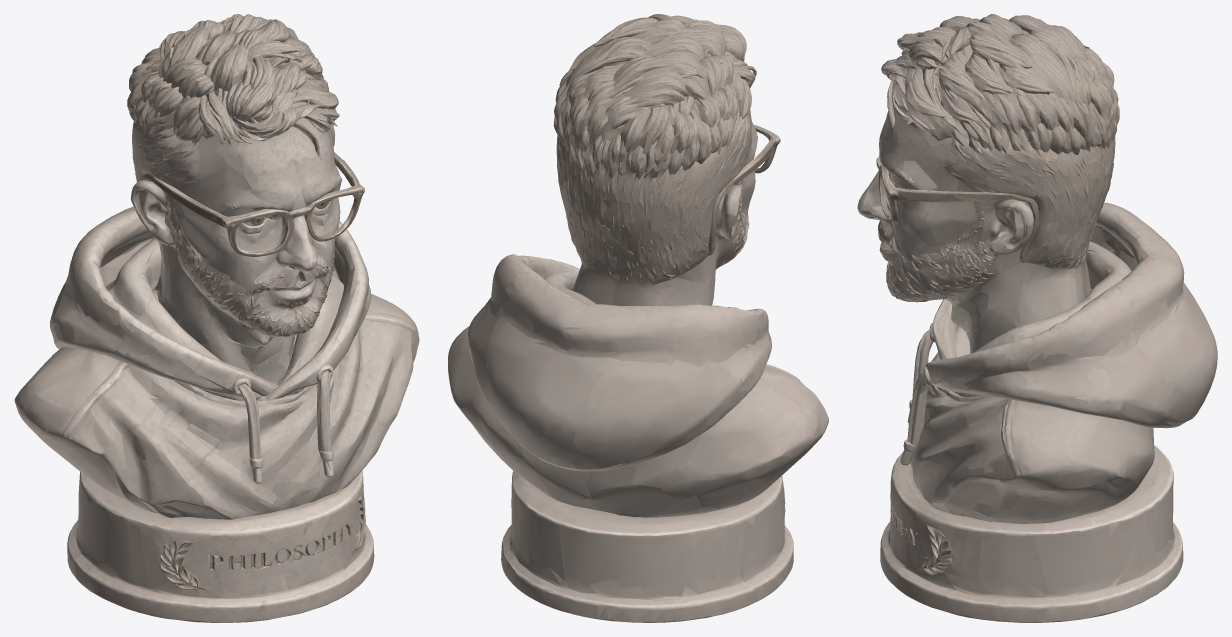
The model's file is statue-philosophy.glb.
The picture shows the model from 3 angles, left to right: view 1: azimuth 30°, elevation 25°; view 2: azimuth 150°, elevation 25°; view 3: azimuth 270°, elevation 25°; orthographic projection. The views are drawn at different scales.
Parts seen in each view (by area): view 1: Mesh_0; view 2: Mesh_0; view 3: Mesh_0.
Boxes of the visible parts, bbox=[...] form: Mesh_0: bbox=[14, 14, 419, 622]; Mesh_0: bbox=[448, 14, 828, 622]; Mesh_0: bbox=[857, 14, 1217, 622].
Size of the model in its own units: 1.39 by 1.9 by 1.15.
1 material, 1 textured.
